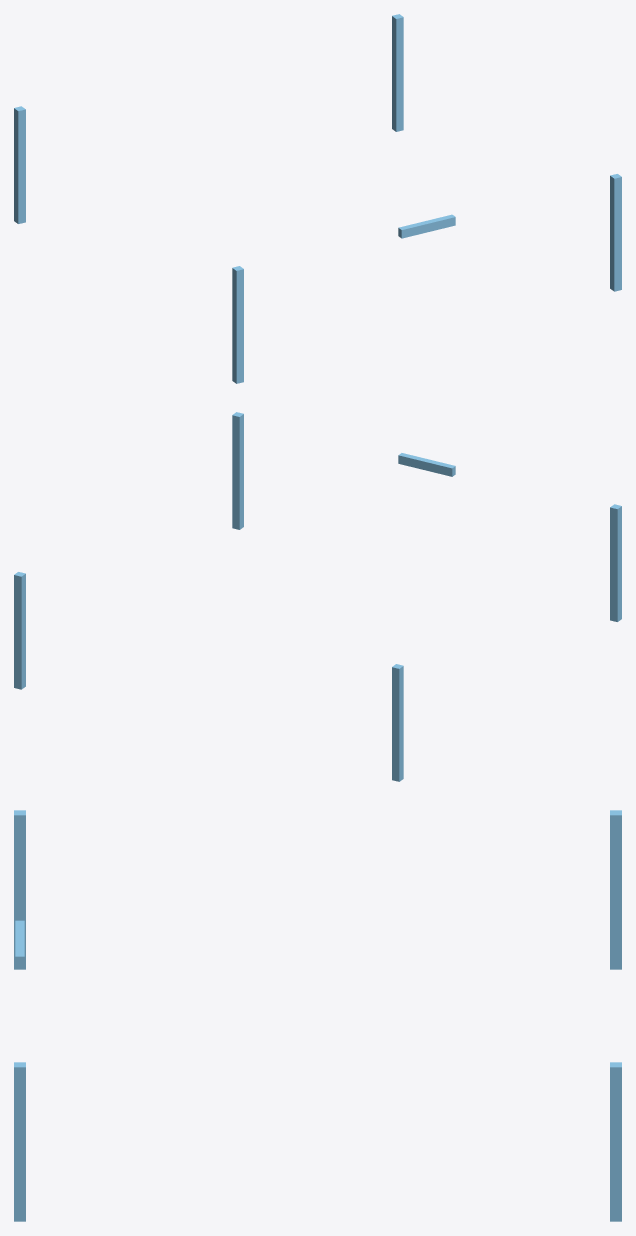
The model's file is accent-2.glb.
3 renders of one model, top to bottom at view 1: azimuth 30°, elevation 25°; view 2: azimuth 150°, elevation 25°; view 3: azimuth 270°, elevation 25°, orthographic. The views are drawn at different scales.
Visible parts, largest first — view 1: accent-2; view 2: accent-2; view 3: accent-2.
Part boxes in pixels (box(x1,y1,x2,y2)): accent-2: box(14, 14, 621, 383); accent-2: box(14, 412, 621, 781); accent-2: box(14, 810, 621, 1221).
Bounding box in the file's own units: 14.28 × 4 × 14.28.
1 material, 1 textured.
